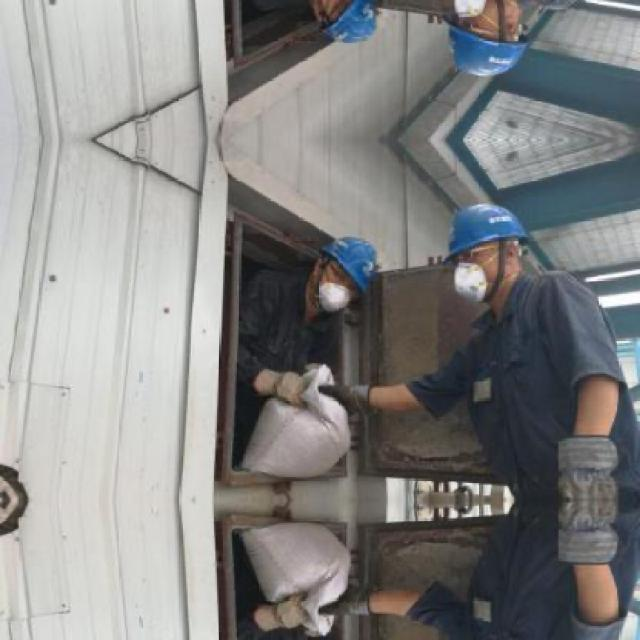con casco: (418, 193, 545, 339), (251, 216, 382, 355)
